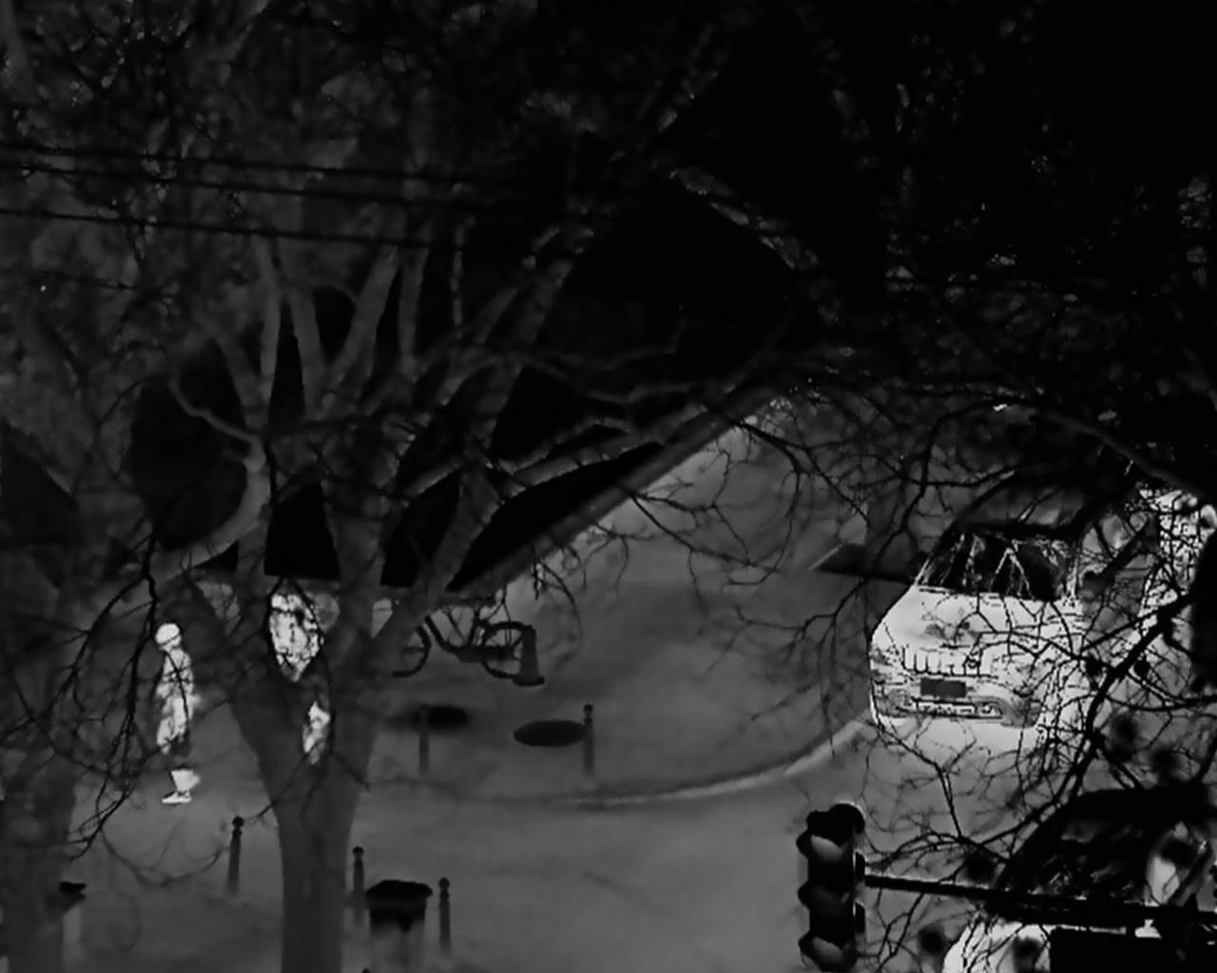person: (153, 622, 206, 808)
